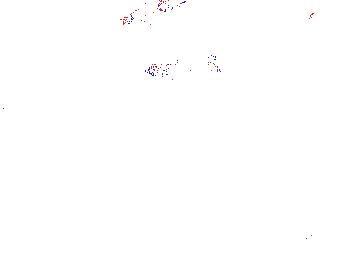red belly glassfish: (294, 9, 318, 26)
redtail glassfish: (143, 50, 223, 78), (120, 1, 190, 31)
siberian prawn: (1, 218, 34, 252)
